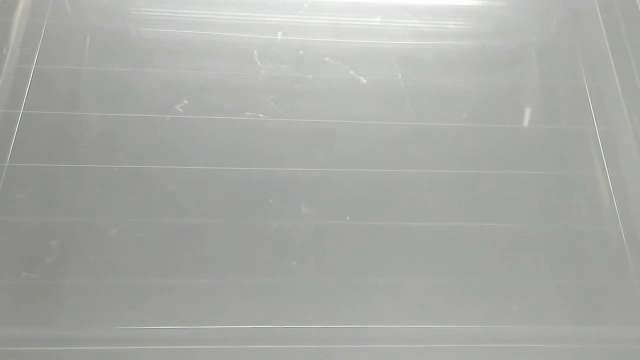alpha: (519, 103, 536, 133)
